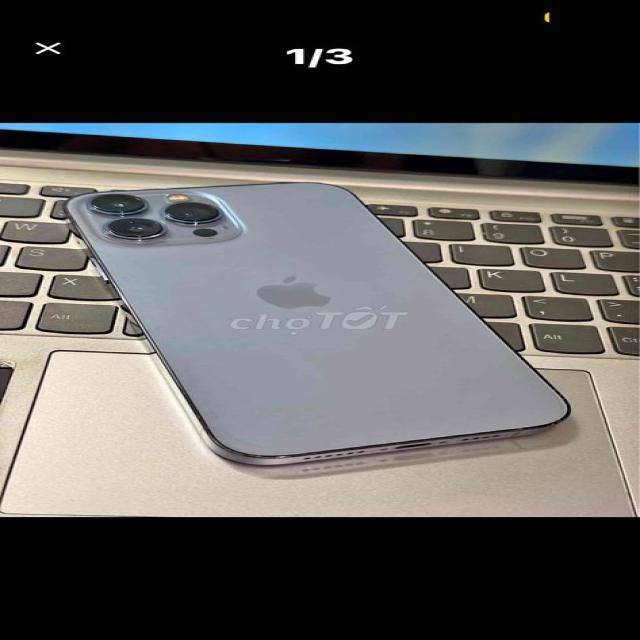gen_12_13: (62, 177, 573, 470)
